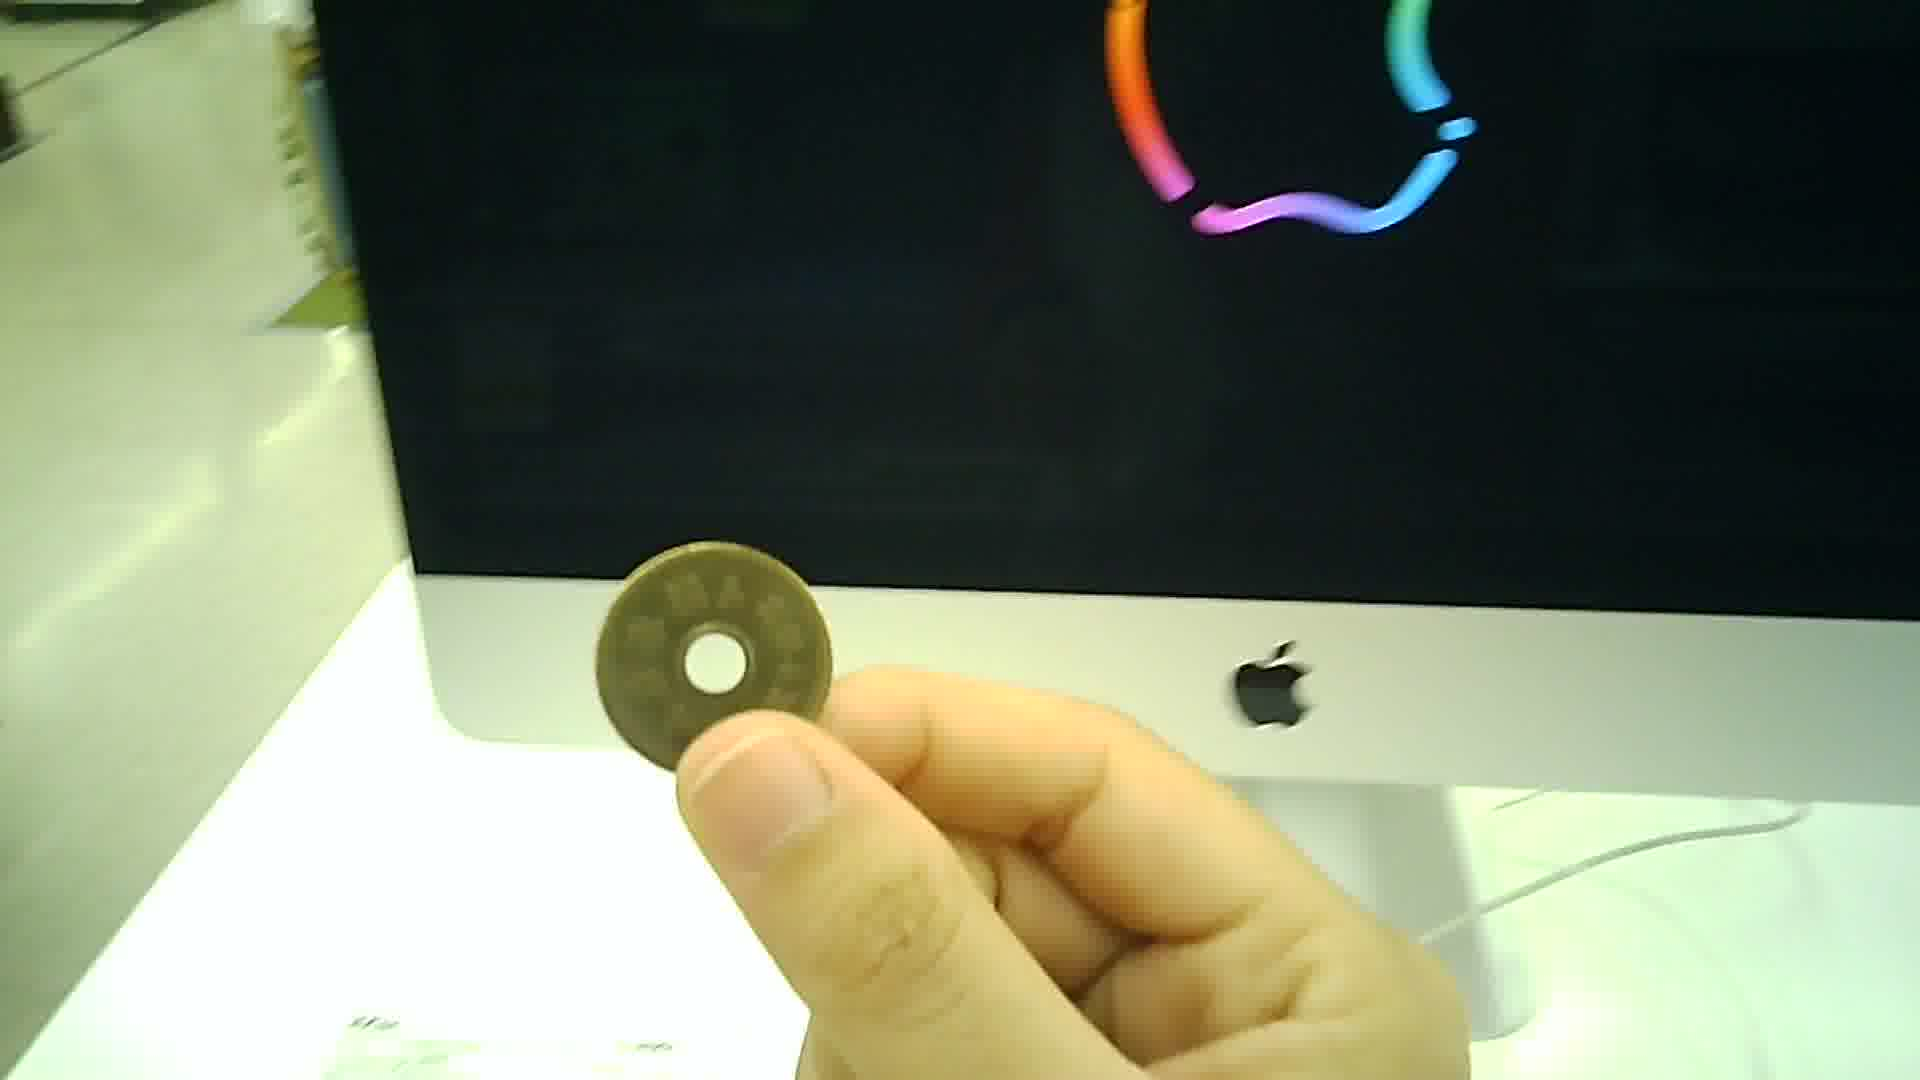5 Yen: (593, 541, 843, 773)
